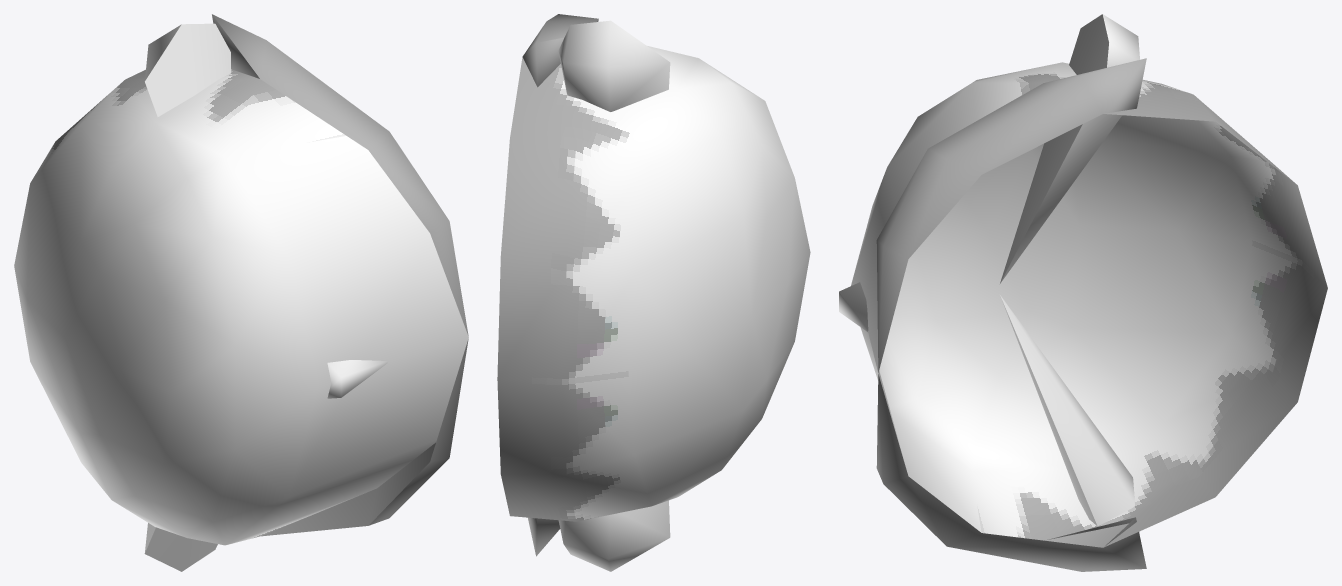
Rendered from boy04b.dae.
The picture shows the model from 3 angles, left to right: view 1: azimuth 30°, elevation 25°; view 2: azimuth 150°, elevation 25°; view 3: azimuth 270°, elevation 25°; orthographic projection.
Visible parts, largest first — view 1: boy04b; view 2: boy04b; view 3: boy04b.
Part boxes in pixels (<box>): boy04b: <box>14,14,468,571</box>; boy04b: <box>497,14,810,571</box>; boy04b: <box>839,14,1327,571</box>.
Size of the model in its own units: 15.5 by 26.71 by 21.59.
Materials: 3 (1 with a texture image).
